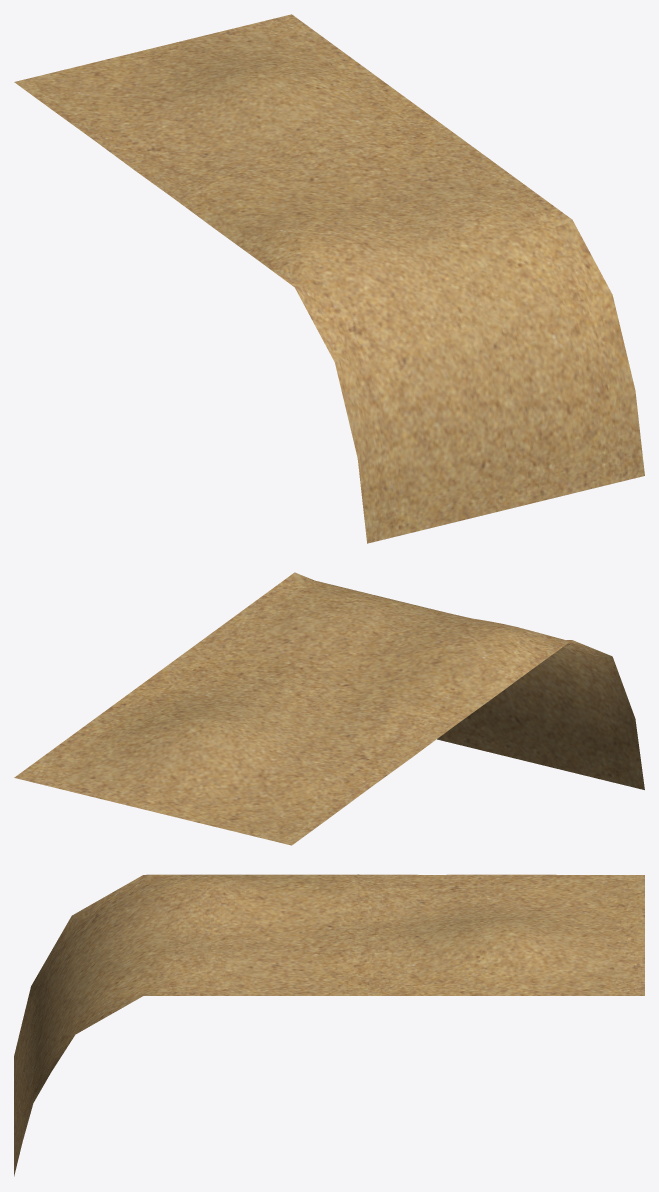
Rendered from frontPath2.obj.
3 renders of one model, top to bottom at view 1: azimuth 30°, elevation 25°; view 2: azimuth 150°, elevation 25°; view 3: azimuth 270°, elevation 25°, orthographic. The views are drawn at different scales.
Parts seen in each view (by area): view 1: pPlane1; view 2: pPlane1; view 3: pPlane1.
Part boxes in pixels (bbox=[...]): pPlane1: bbox=[14, 14, 644, 543]; pPlane1: bbox=[14, 572, 644, 845]; pPlane1: bbox=[14, 874, 644, 1176].
Size of the model in its own units: 6 by 4.61 by 13.21.
Materials: 1 (1 with a texture image).
